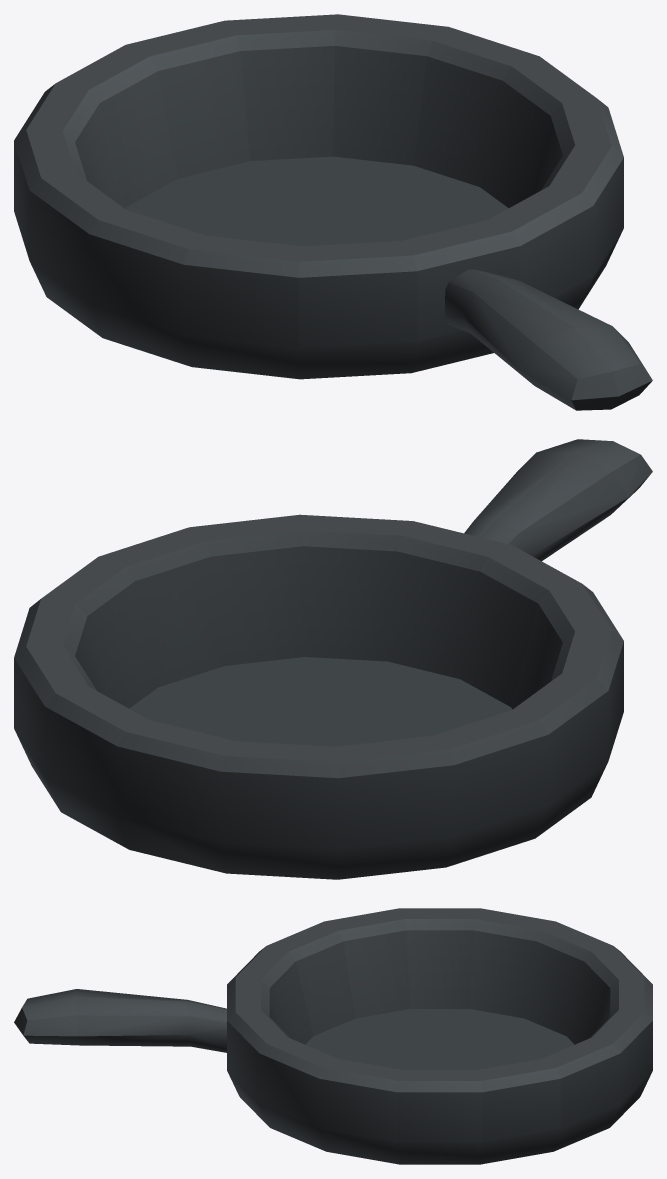
File: Cooking_Pan_baked.glb
3 renders of one model, top to bottom at view 1: azimuth 30°, elevation 25°; view 2: azimuth 150°, elevation 25°; view 3: azimuth 270°, elevation 25°, orthographic. The views are drawn at different scales.
Parts seen in each view (by area): view 1: pan_B; view 2: pan_B; view 3: pan_B.
Boxes of the visible parts, bbox=[...] form: pan_B: bbox=[14, 14, 652, 410]; pan_B: bbox=[14, 439, 652, 879]; pan_B: bbox=[14, 908, 652, 1164].
Bounding box in the file's own units: 1 × 0.25 × 1.5.
Materials: 1 (1 with a texture image).
